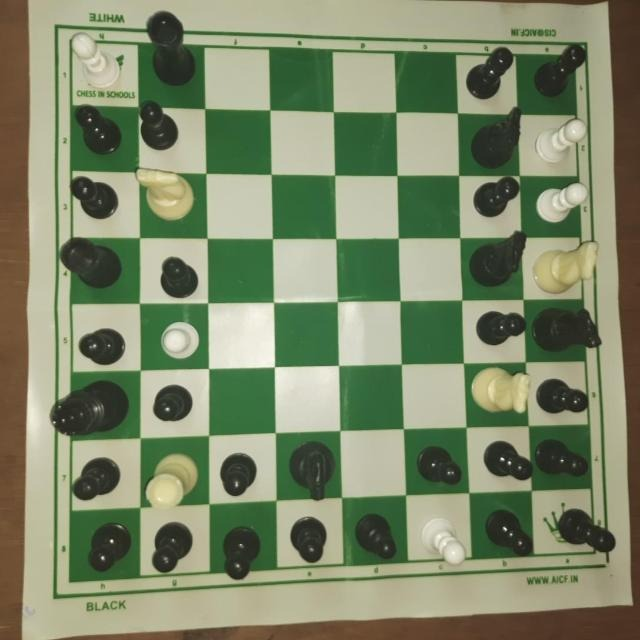black-knight: (530, 303, 607, 359), (464, 226, 525, 291), (468, 105, 526, 173), (287, 436, 338, 505)
black-pawn: (555, 504, 623, 557), (463, 42, 517, 100), (533, 43, 590, 97), (217, 519, 265, 583), (480, 506, 534, 562), (85, 518, 135, 576), (151, 516, 197, 578), (353, 508, 401, 566), (286, 511, 331, 571), (480, 434, 534, 484), (70, 453, 124, 502), (73, 104, 123, 156), (473, 303, 528, 350), (67, 173, 122, 219), (534, 438, 591, 482), (470, 173, 521, 221), (413, 440, 465, 487), (214, 446, 260, 497), (533, 376, 593, 415), (136, 99, 180, 152), (76, 325, 128, 367), (157, 253, 201, 301), (149, 380, 192, 424)
black-queen: (44, 376, 134, 437)
black-rook: (141, 5, 201, 90), (55, 233, 127, 290)
white-knight: (131, 161, 196, 226), (531, 238, 601, 293), (470, 361, 532, 415)
white-pawn: (66, 24, 121, 95), (416, 509, 469, 572), (534, 116, 588, 168), (532, 179, 590, 227), (152, 314, 204, 366)
white-rook: (140, 448, 201, 510)
